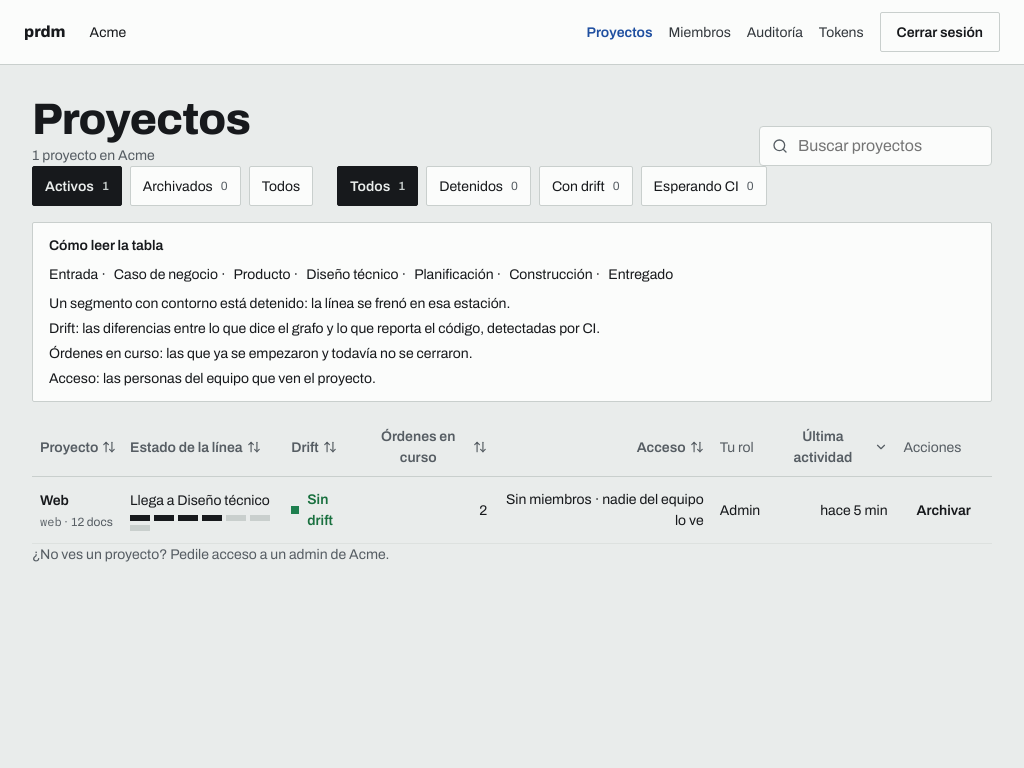
Test: ProjectsDashboard › keeps the dialog open with an alert when archiving fails
Click the button "Archivar".
click(944, 510)  # box [904, 494, 984, 526]
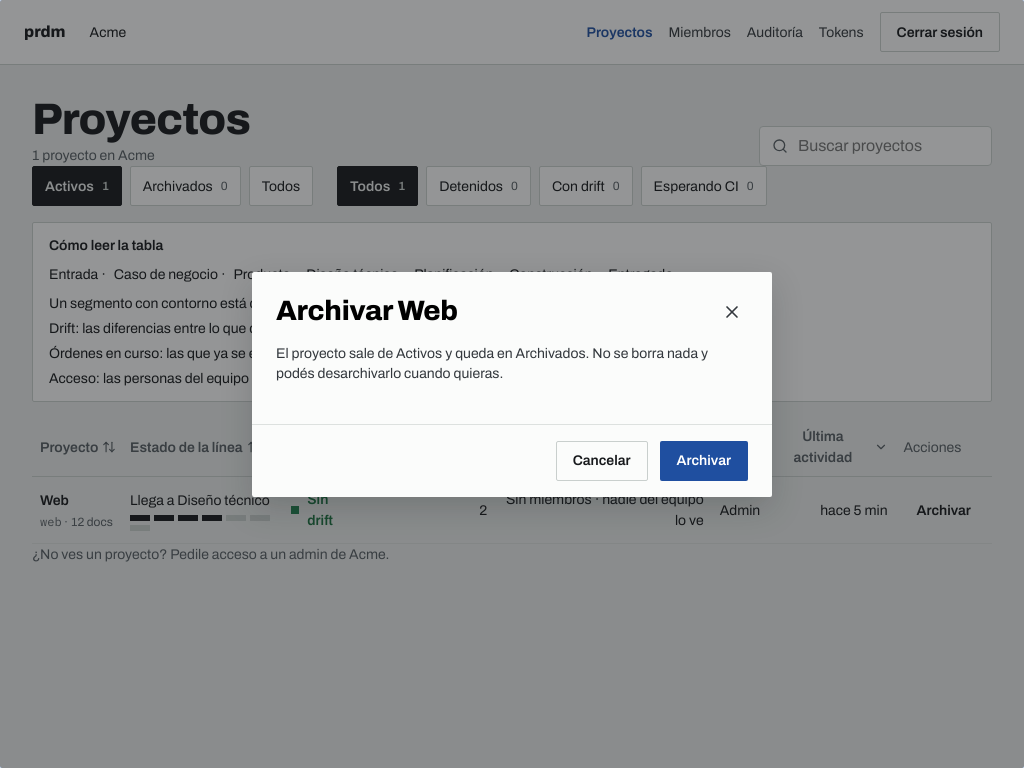
Click the button "Archivar".
click(704, 460)  # box [660, 440, 748, 480]
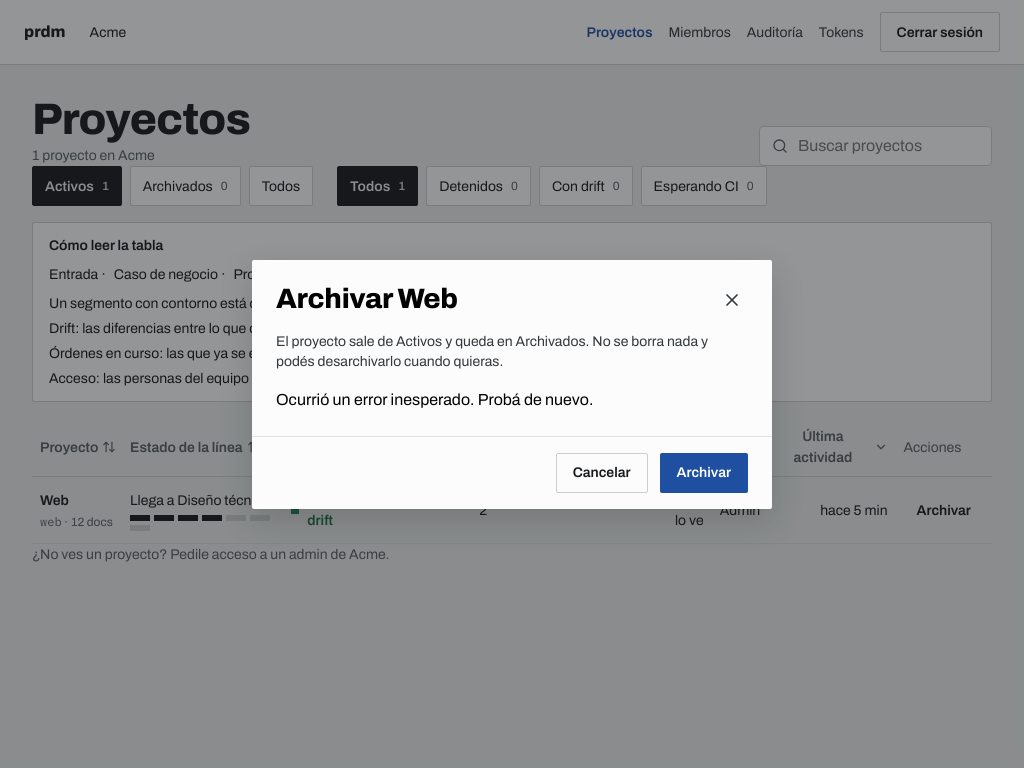
Expected: the dialog "Archivar Web" is shown, [252, 260, 772, 508]
Expected: the message "Ocurrió un error inesperado. Probá de nuevo." is shown, [276, 390, 593, 408]
